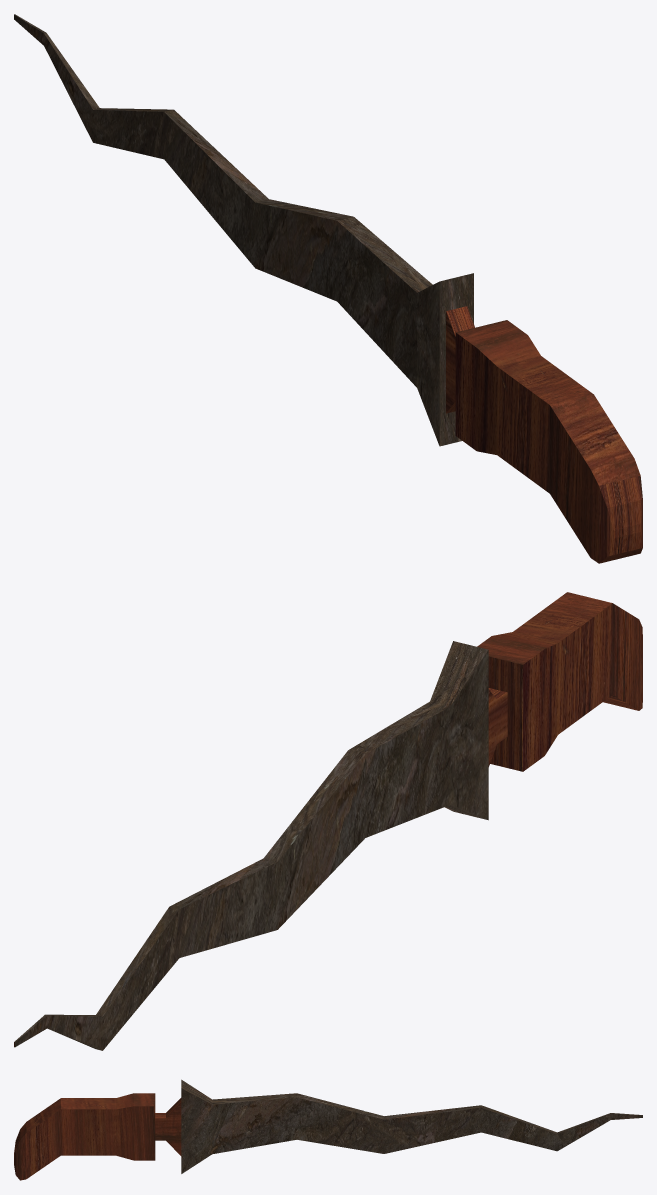
The model's file is Keris.fbx.
3 renders of one model, top to bottom at view 1: azimuth 30°, elevation 25°; view 2: azimuth 150°, elevation 25°; view 3: azimuth 270°, elevation 25°, orthographic. The views are drawn at different scales.
Parts seen in each view (by area): view 1: Keris; view 2: Keris; view 3: Keris.
Part boxes in pixels (bbox=[...]): Keris: bbox=[14, 14, 642, 563]; Keris: bbox=[14, 592, 642, 1050]; Keris: bbox=[14, 1079, 642, 1180].
Bounding box in the file's own units: 11.01 × 32.35 × 207.
